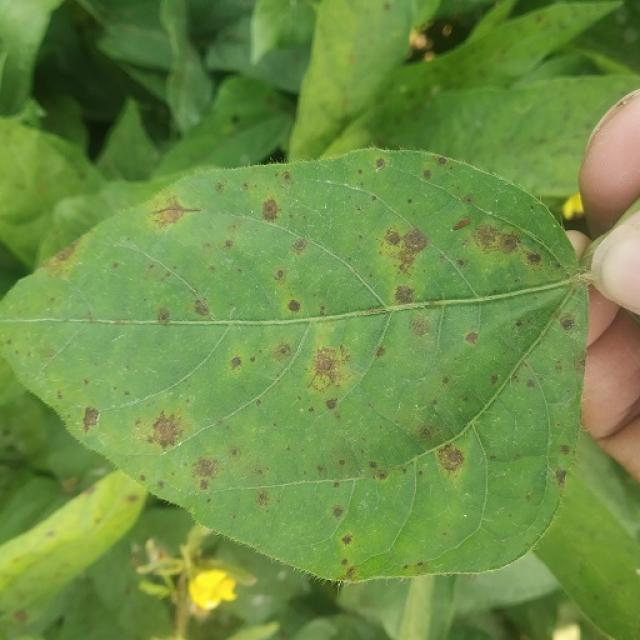Anthracnose: (383, 225, 432, 275), (141, 406, 194, 450), (307, 343, 353, 391), (471, 222, 523, 256), (436, 443, 466, 474), (151, 204, 187, 228), (49, 240, 78, 266), (409, 30, 432, 54), (366, 460, 391, 482), (81, 406, 100, 434), (410, 315, 432, 338), (261, 197, 280, 222), (273, 342, 292, 360), (193, 299, 210, 318), (291, 237, 308, 254), (61, 476, 78, 493), (451, 217, 471, 231), (156, 307, 171, 324), (256, 489, 271, 506), (554, 468, 568, 486), (559, 316, 575, 331), (39, 346, 56, 359), (286, 299, 301, 313), (464, 331, 479, 345), (14, 610, 28, 625), (229, 356, 242, 370), (331, 505, 344, 518), (461, 194, 475, 206), (375, 345, 387, 358), (341, 534, 353, 546), (375, 157, 386, 170), (214, 181, 225, 193), (559, 443, 570, 455), (345, 567, 356, 579), (223, 239, 234, 250), (282, 171, 292, 183), (127, 493, 139, 503), (422, 169, 432, 180), (275, 269, 285, 280), (526, 378, 536, 388), (490, 374, 499, 385), (437, 156, 448, 165), (456, 259, 467, 268), (230, 447, 239, 457), (45, 530, 55, 537), (340, 558, 348, 566), (333, 481, 340, 488)
Blackgram: (0, 150, 585, 580)
